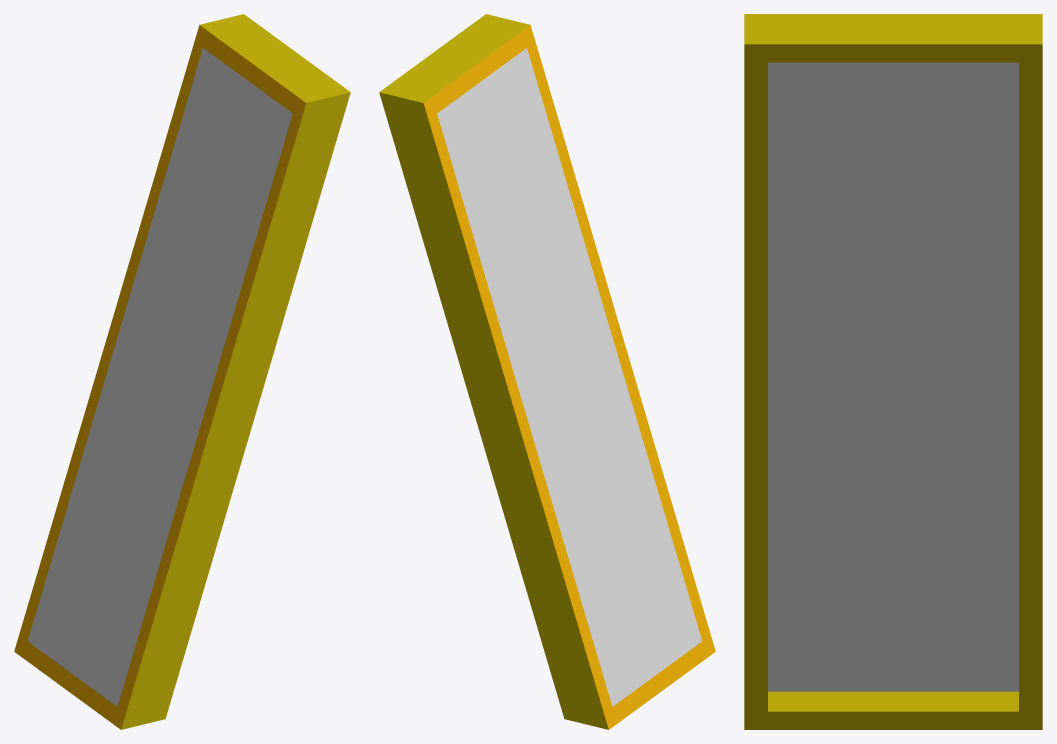
Rendered from window_slanted_1x1x3.dae.
3 renders of one model, left to right at view 1: azimuth 30°, elevation 25°; view 2: azimuth 150°, elevation 25°; view 3: azimuth 270°, elevation 25°, orthographic. The views are drawn at different scales.
Parts seen in each view (by area): view 1: Cube; view 2: Cube; view 3: Cube.
Boxes of the visible parts, x1=… form: Cube: x1=14, y1=14, x2=350, y2=729; Cube: x1=379, y1=14, x2=715, y2=729; Cube: x1=744, y1=14, x2=1042, y2=729.
Bounding box in the file's own units: 0.31 × 0.25 × 0.75.
